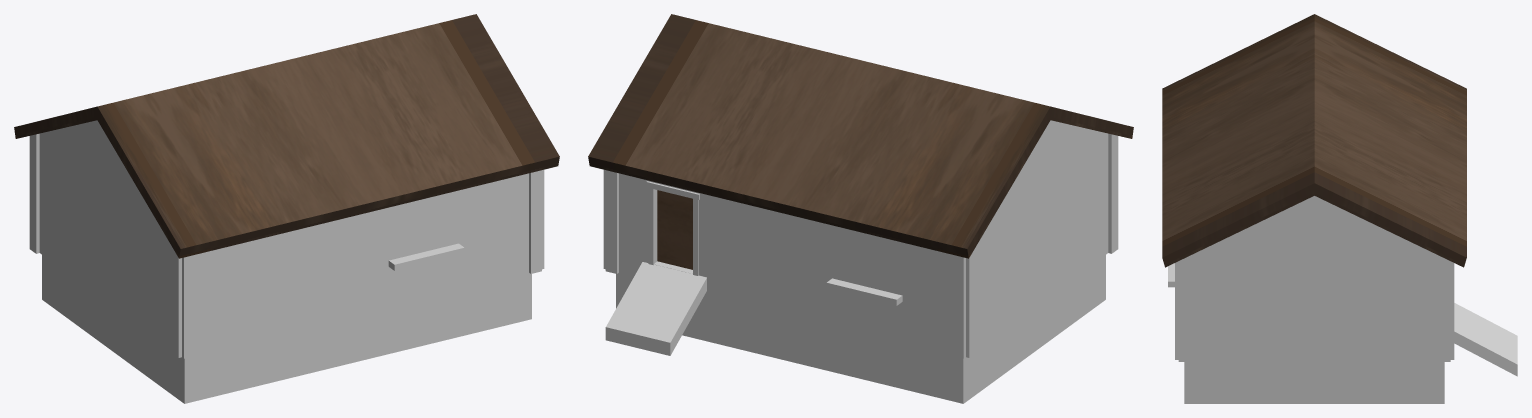
File: CabinMeshCollider.fbx
3 views of the same model, side by side, from view 1: azimuth 30°, elevation 25°; view 2: azimuth 150°, elevation 25°; view 3: azimuth 270°, elevation 25° (orthographic). The views are drawn at different scales.
Visible parts, largest first — view 1: Cylinder.034, Cylinder.008, Floor.001, Cylinder.006, Cylinder.015, Cylinder.007, Cylinder.033, Cube.002; view 2: Cylinder.033, Cylinder.007, Cylinder.006, Floor.001, Stairs.001, Cube.019, Cube.040, Cylinder.015, Cylinder.008, Cylinder.034, WindowSill.001; view 3: Cylinder.015, Cylinder.033, Cylinder.034, Floor.001, Stairs.001, Cylinder.007, Cylinder.008.
Part boxes in pixels (box(x1,y1,x2,y2)): Cylinder.034: box(95, 14, 559, 258); Cylinder.008: box(172, 169, 544, 357); Floor.001: box(42, 255, 531, 403); Cylinder.006: box(39, 120, 195, 358); Cylinder.015: box(529, 170, 541, 273); Cylinder.007: box(29, 133, 39, 253); Cylinder.033: box(14, 106, 97, 138); Cube.002: box(388, 243, 464, 270); Cylinder.033: box(588, 14, 1051, 258); Cylinder.007: box(603, 169, 975, 357); Cylinder.006: box(952, 120, 1108, 358); Floor.001: box(616, 255, 1105, 403); Stairs.001: box(605, 261, 706, 355); Cube.019: box(657, 190, 692, 269); Cube.040: box(646, 181, 699, 275); Cylinder.015: box(605, 170, 618, 273); Cylinder.008: box(1108, 133, 1118, 253); Cylinder.034: box(1048, 106, 1133, 138); WindowSill.001: box(826, 278, 902, 305); Cylinder.015: box(1175, 196, 1454, 359); Cylinder.033: box(1311, 14, 1466, 267); Cylinder.034: box(1162, 14, 1316, 267); Floor.001: box(1184, 360, 1444, 403); Stairs.001: box(1454, 303, 1517, 376); Cylinder.007: box(1438, 256, 1450, 361); Cylinder.008: box(1178, 256, 1190, 361).
Bounding box in the file's own units: 17.79 × 11.17 × 15.79.
Materials: 2 (2 with a texture image).
